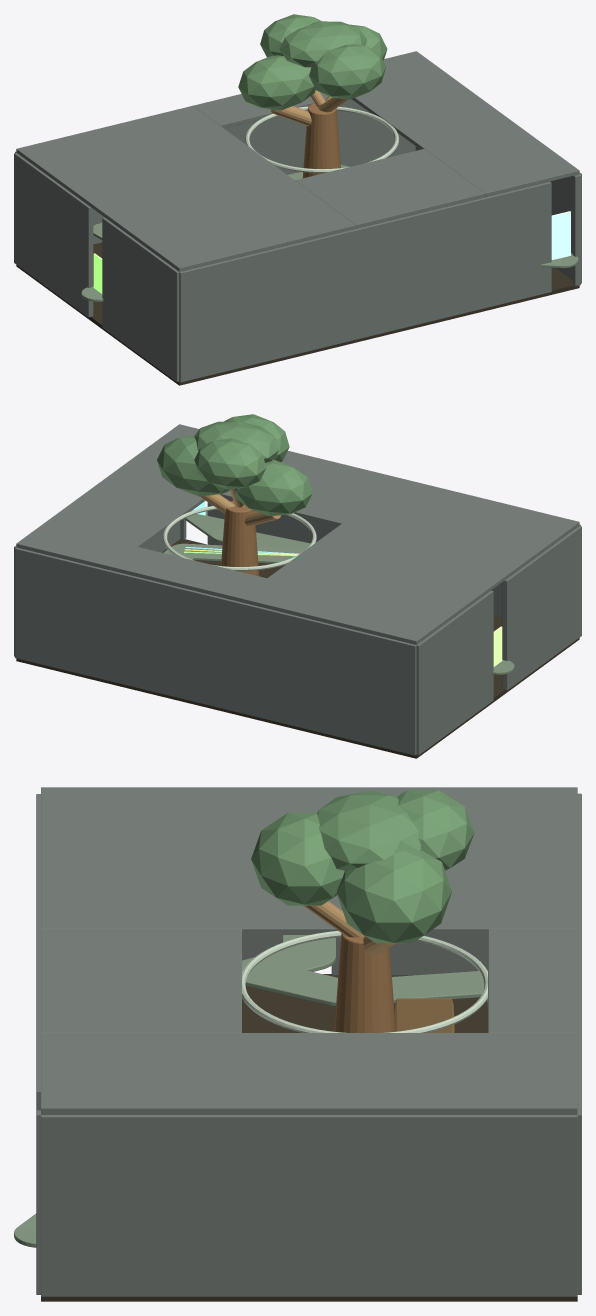
Rendered from earth-root-observatory-graybox.glb.
The picture shows the model from 3 angles, top to bottom: view 1: azimuth 30°, elevation 25°; view 2: azimuth 150°, elevation 25°; view 3: azimuth 270°, elevation 25°; orthographic projection. The views are drawn at different scales.
Parts seen in each view (by area): view 1: ER_Wall_South_West, ER_Roof_West, ER_Roof_East, ER_Wall_West_South, ER_Wall_West_North, ER_Roof_South, ER_Wall_North, ER_Hero_Tree_Canopy_3, ER_Hero_Tree_Canopy_1, ER_Basin_Floor, ER_Hero_Tree_Canopy_5, ER_Hero_Tree_Trunk (+6 smaller); view 2: ER_Wall_North, ER_Roof_West, ER_Roof_East, ER_Wall_West_North, ER_Wall_West_South, ER_Roof_South, ER_Roof_North, ER_Hero_Tree_Canopy_1, ER_Hero_Tree_Canopy_4, ER_Basin_Floor, ER_Hero_Tree_Canopy_2, ER_Hero_Tree_Trunk (+8 smaller); view 3: ER_Wall_East, ER_Roof_West, ER_Roof_East, ER_Roof_South, ER_Roof_North, ER_Hero_Tree_Canopy_2, ER_Basin_Floor, ER_Hero_Tree_Canopy_3, ER_Hero_Tree_Canopy_5, ER_Hero_Tree_Trunk, ER_Hero_Tree_Canopy_4, ER_Wall_West_South (+10 smaller).
Part boxes in pixels (x1=…): ER_Wall_South_West: x1=179, y1=181, x2=551, y2=382; ER_Roof_West: x1=16, y1=105, x2=355, y2=271; ER_Roof_East: x1=352, y1=51, x2=579, y2=197; ER_Wall_West_South: x1=14, y1=153, x2=93, y2=317; ER_Wall_West_North: x1=102, y1=217, x2=179, y2=381; ER_Roof_South: x1=295, y1=149, x2=485, y2=228; ER_Wall_North: x1=15, y1=99, x2=415, y2=244; ER_Hero_Tree_Canopy_3: x1=309, y1=44, x2=385, y2=99; ER_Hero_Tree_Canopy_1: x1=238, y1=55, x2=315, y2=110; ER_Basin_Floor: x1=16, y1=242, x2=579, y2=385; ER_Hero_Tree_Canopy_5: x1=279, y1=21, x2=366, y2=67; ER_Hero_Tree_Trunk: x1=302, y1=103, x2=340, y2=178; ER_Wall_North: x1=15, y1=547, x2=416, y2=755; ER_Roof_West: x1=240, y1=479, x2=579, y2=644; ER_Roof_East: x1=16, y1=424, x2=205, y2=570; ER_Wall_West_North: x1=502, y1=526, x2=581, y2=690; ER_Wall_West_South: x1=416, y1=590, x2=493, y2=755; ER_Roof_South: x1=220, y1=451, x2=402, y2=526; ER_Roof_North: x1=110, y1=547, x2=266, y2=601; ER_Hero_Tree_Canopy_1: x1=235, y1=459, x2=312, y2=516; ER_Hero_Tree_Canopy_4: x1=194, y1=438, x2=266, y2=489; ER_Basin_Floor: x1=16, y1=539, x2=579, y2=758; ER_Hero_Tree_Canopy_2: x1=157, y1=435, x2=229, y2=496; ER_Hero_Tree_Trunk: x1=221, y1=501, x2=259, y2=576; ER_Wall_East: x1=41, y1=1114, x2=577, y2=1296; ER_Roof_West: x1=41, y1=787, x2=577, y2=934; ER_Roof_East: x1=41, y1=1033, x2=577, y2=1114; ER_Roof_South: x1=41, y1=929, x2=241, y2=1032; ER_Roof_North: x1=488, y1=929, x2=577, y2=1032; ER_Hero_Tree_Canopy_2: x1=336, y1=850, x2=452, y2=943; ER_Basin_Floor: x1=41, y1=974, x2=577, y2=1301; ER_Hero_Tree_Canopy_3: x1=251, y1=812, x2=344, y2=905; ER_Hero_Tree_Canopy_5: x1=317, y1=791, x2=421, y2=870; ER_Hero_Tree_Trunk: x1=334, y1=933, x2=395, y2=1032; ER_Hero_Tree_Canopy_4: x1=397, y1=790, x2=474, y2=870; ER_Wall_West_South: x1=331, y1=935, x2=487, y2=975.
Size of the model in its own units: 35.4 by 18.32 by 25.4.
